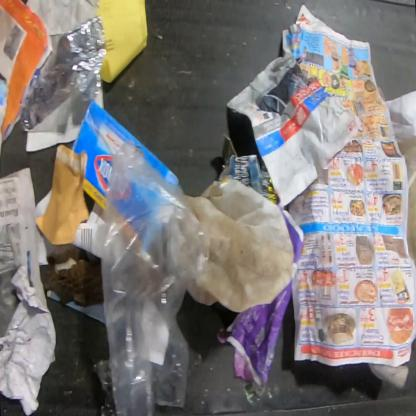soft_plastic: (93, 142, 208, 416), (182, 179, 296, 314), (21, 15, 107, 133)
